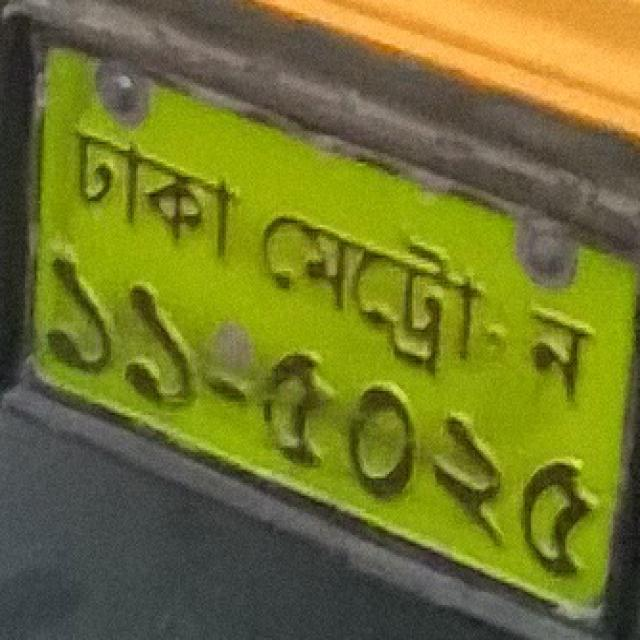numberplate: (4, 7, 638, 635)
